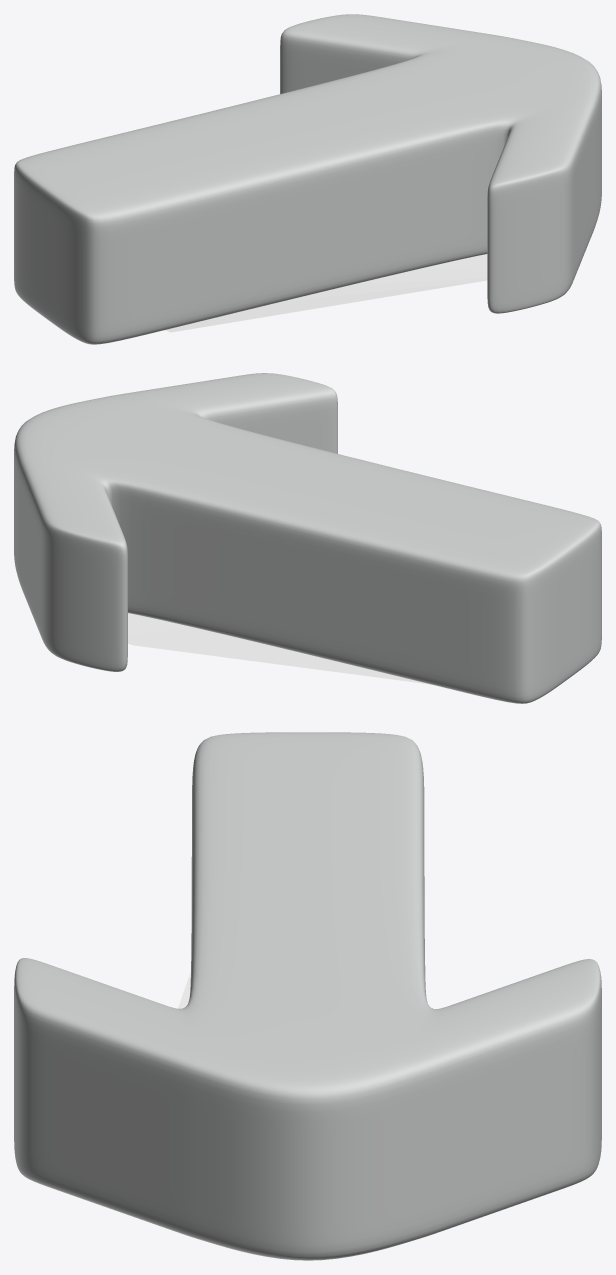
Rendered from VR福笑いボタン - すすむ（白地）.fbx.
3 renders of one model, top to bottom at view 1: azimuth 30°, elevation 25°; view 2: azimuth 150°, elevation 25°; view 3: azimuth 270°, elevation 25°, orthographic. The views are drawn at different scales.
Parts seen in each view (by area): view 1: 平面.002, 縺吶☆繧_black; view 2: 平面.002, 縺吶☆繧_black; view 3: 平面.002.
Boxes of the visible parts, x1=… form: 平面.002: x1=14, y1=14, x2=601, y2=344; 縺吶☆繧_black: x1=166, y1=254, x2=487, y2=332; 平面.002: x1=14, y1=373, x2=601, y2=703; 縺吶☆繧_black: x1=128, y1=613, x2=430, y2=684; 平面.002: x1=14, y1=732, x2=601, y2=1260.
Size of the model in its own units: 3022 by 716 by 2086.
2 materials, 1 textured.
